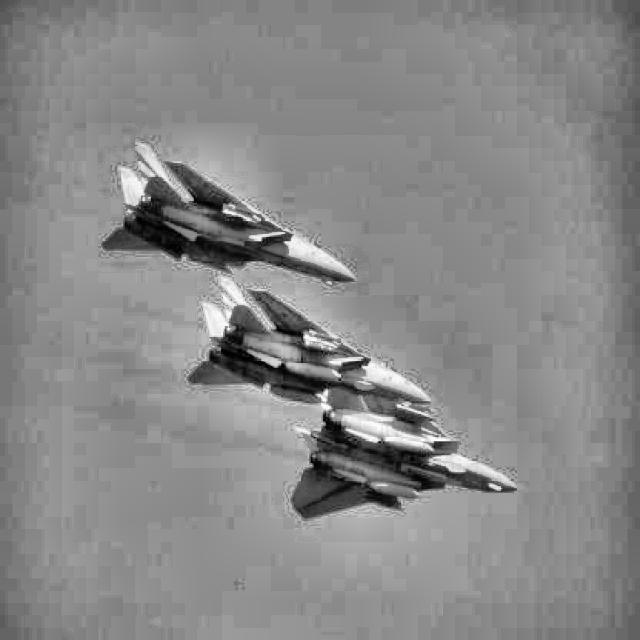F14: (100, 141, 357, 285), (186, 274, 434, 404), (291, 386, 520, 519)
